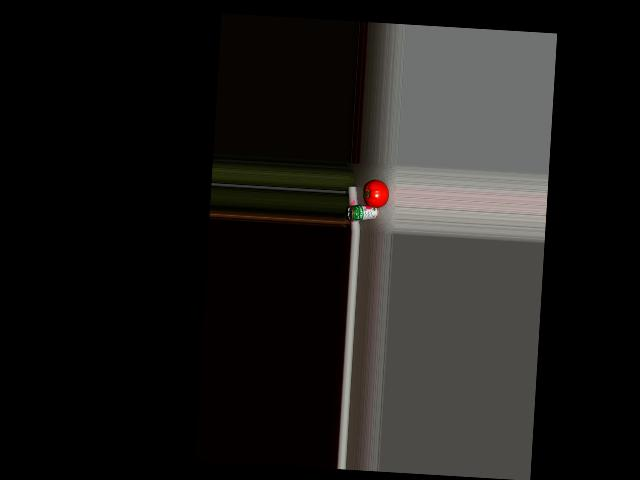tomato: (364, 179, 389, 208)
